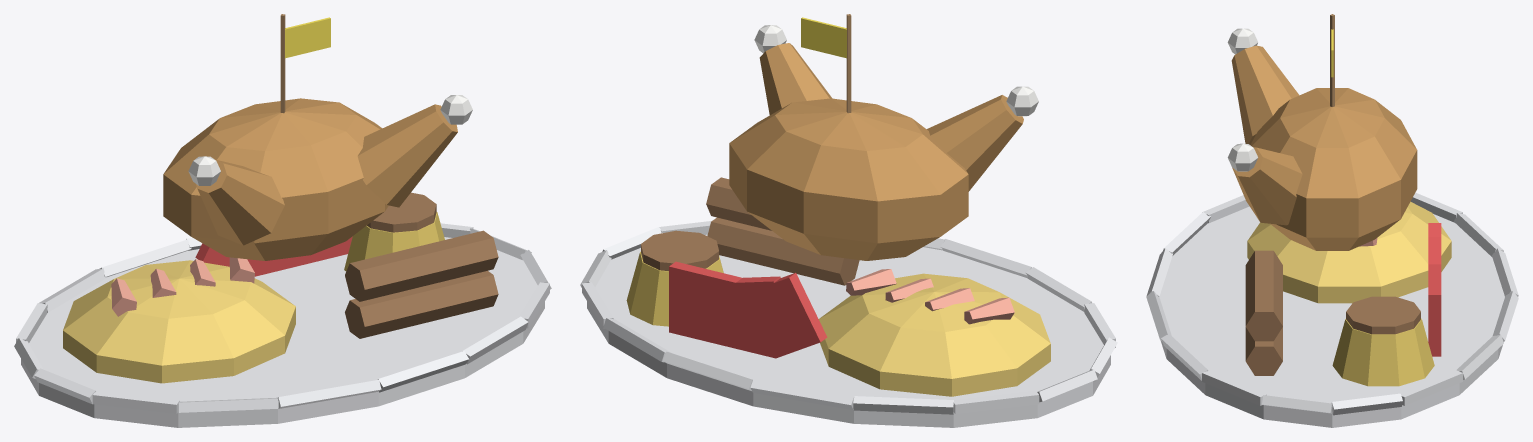
Rendered from HJ_Bandeja.fbx.
3 renders of one model, left to right at view 1: azimuth 30°, elevation 25°; view 2: azimuth 150°, elevation 25°; view 3: azimuth 270°, elevation 25°, orthographic. The views are drawn at different scales.
Parts seen in each view (by area): view 1: HJ_Bandeja; view 2: HJ_Bandeja; view 3: HJ_Bandeja.
Boxes of the visible parts, x1=… form: HJ_Bandeja: x1=14, y1=14, x2=551, y2=427; HJ_Bandeja: x1=580, y1=14, x2=1117, y2=427; HJ_Bandeja: x1=1146, y1=14, x2=1518, y2=427.
Bounding box in the file's own units: 0.6347 × 0.44 × 0.4373.
